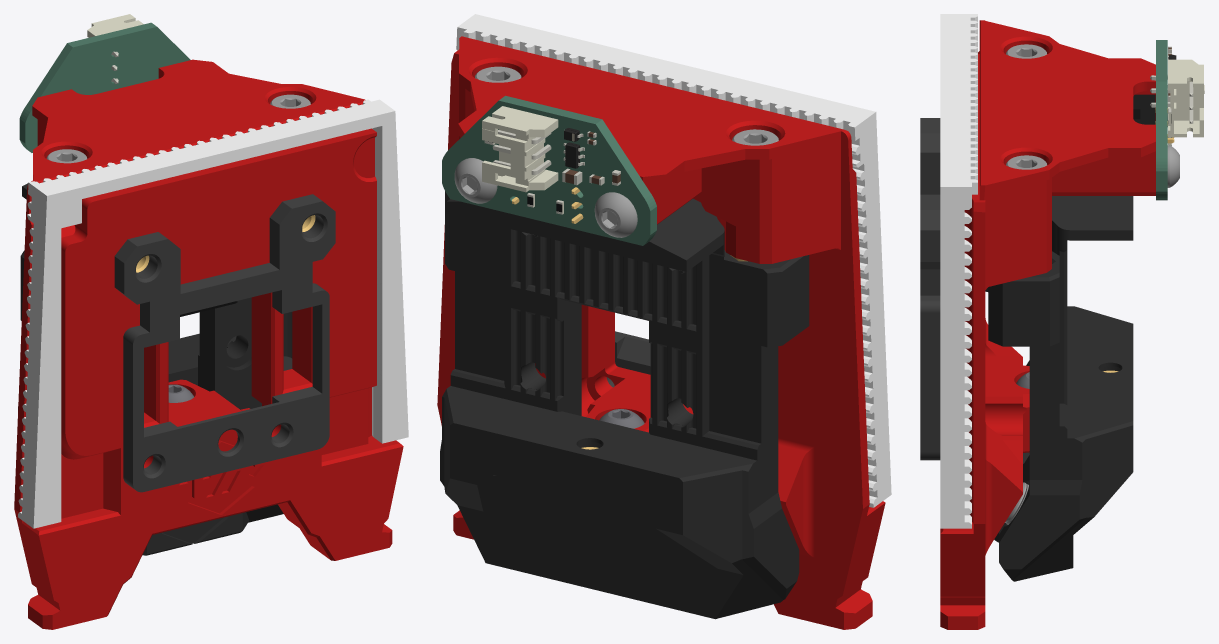
3 renders of one model, left to right at view 1: azimuth 30°, elevation 25°; view 2: azimuth 150°, elevation 25°; view 3: azimuth 270°, elevation 25°, orthographic. The views are drawn at different scales.
Parts seen in each view (by area): view 1: Backplate, Supports, Spacer, Shuttle MGN12, OptoTap PCB014, OptoTap PCB007; view 2: Shuttle MGN12, Backplate, Supports, OptoTap PCB014, OptoTap PCB007, M3x6 BHCS Screws001, Spacer, M3x6 BHCS Screws; view 3: Backplate, Shuttle MGN12, Supports, Spacer, OptoTap PCB007, OptoTap PCB014, OptoTap PCB002, M3x6 BHCS Screws, Top Pins With Screws002, Top Pins With Screws003.
Part boxes in pixels (x1,y1,x2,y2): Backplate: (14, 59, 403, 629); Supports: (18, 99, 408, 528); Spacer: (114, 194, 335, 492); Shuttle MGN12: (18, 183, 292, 555); OptoTap PCB014: (19, 22, 190, 152); OptoTap PCB007: (87, 14, 143, 83); Shuttle MGN12: (440, 191, 809, 619); Backplate: (437, 36, 885, 629); Supports: (456, 14, 891, 507); OptoTap PCB014: (442, 95, 656, 245); OptoTap PCB007: (482, 106, 558, 192); M3x6 BHCS Screws001: (594, 192, 637, 237); Spacer: (606, 331, 650, 387); M3x6 BHCS Screws: (454, 158, 497, 203); Backplate: (940, 20, 1155, 629); Shuttle MGN12: (985, 196, 1133, 581); Supports: (940, 14, 977, 528); Spacer: (920, 118, 940, 460); OptoTap PCB007: (1150, 59, 1204, 137); OptoTap PCB014: (1156, 40, 1167, 200); OptoTap PCB002: (1133, 94, 1155, 124); M3x6 BHCS Screws: (1167, 145, 1179, 187); Top Pins With Screws002: (1006, 44, 1046, 58); Top Pins With Screws003: (1006, 155, 1046, 169).
Bounding box in the file's own units: 0.0587 × 0.0709 × 0.0379.
